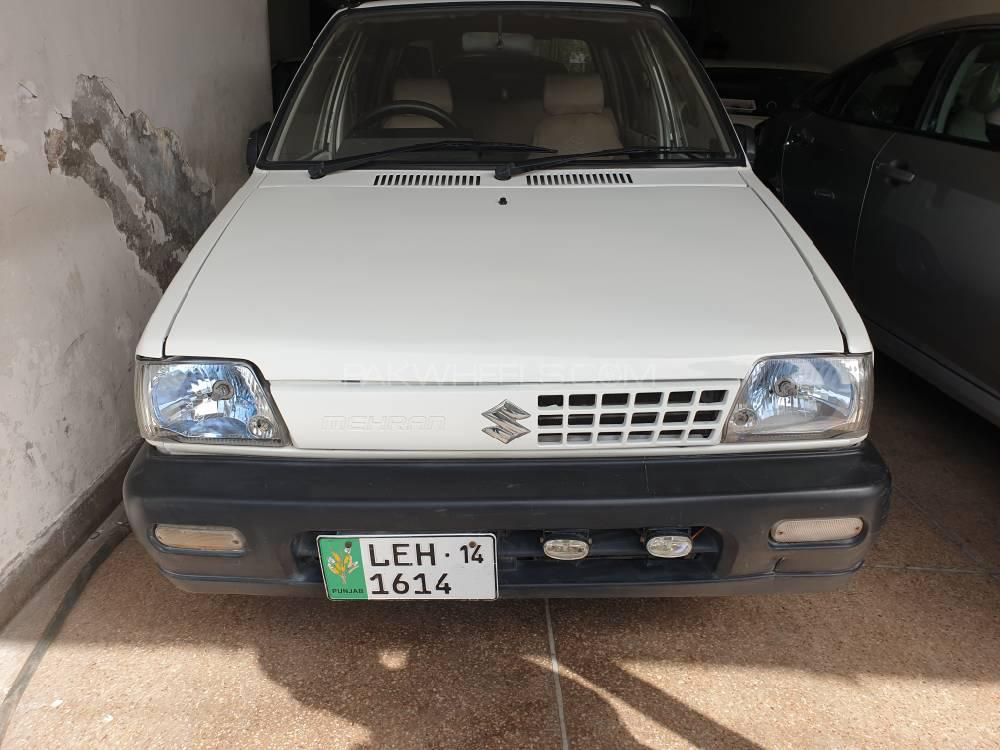license plate: (323, 536, 498, 599)
